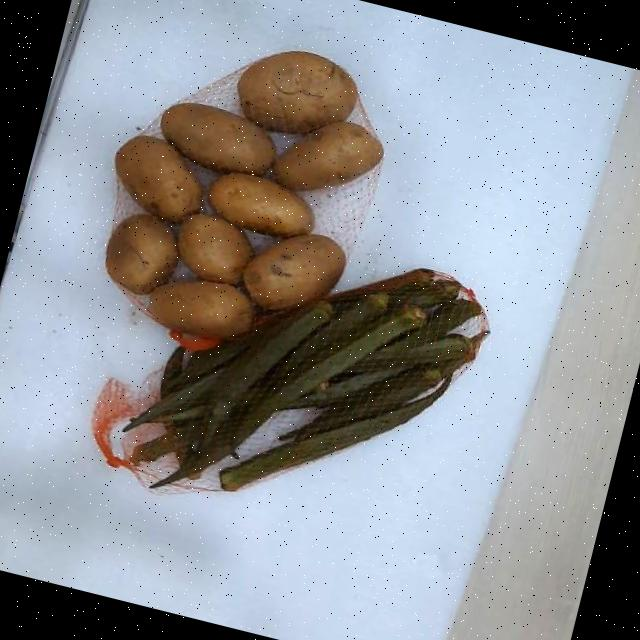potato: (125, 268, 486, 490), (237, 50, 357, 133), (160, 102, 274, 175), (242, 234, 345, 310), (114, 135, 202, 222), (272, 122, 381, 191), (208, 172, 312, 237), (149, 281, 253, 339), (105, 214, 178, 294), (177, 213, 253, 283)
